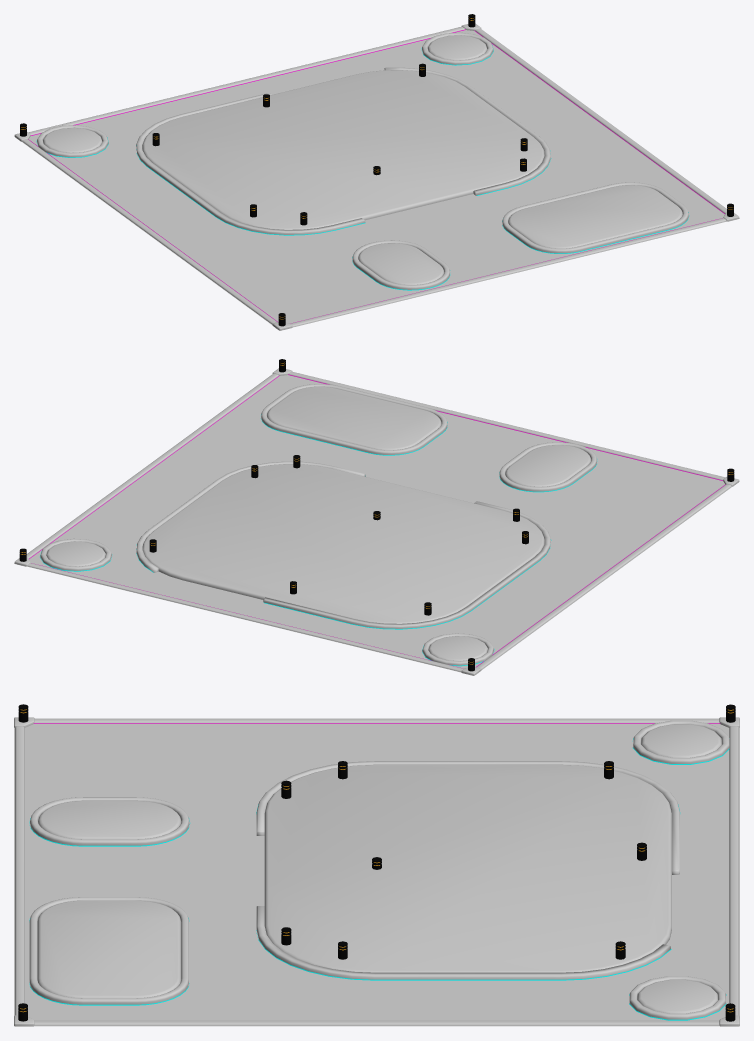
Rendered from building_floor.gltf.
3 renders of one model, top to bottom at view 1: azimuth 30°, elevation 25°; view 2: azimuth 150°, elevation 25°; view 3: azimuth 270°, elevation 25°, orthographic. The views are drawn at different scales.
Parts seen in each view (by area): view 1: Grass_3D, concrete_floor, concrete_floor.005, Grass_3D_borders, concrete_floor_borders, concrete_floor.006, Grass_3D.003; view 2: Grass_3D, concrete_floor, concrete_floor.005, Grass_3D_borders, concrete_floor_borders, concrete_floor.006, Grass_3D.003; view 3: Grass_3D, concrete_floor, concrete_floor.005, Grass_3D_borders, concrete_floor_borders, Grass_3D.003, concrete_floor_borders.001, Plane.011, concrete_floor.006.
Part boxes in pixels (<box>): Grass_3D: <box>43,35,682,284</box>; concrete_floor: <box>14,30,739,330</box>; concrete_floor.005: <box>22,26,726,327</box>; Grass_3D_borders: <box>37,32,688,289</box>; concrete_floor_borders: <box>136,67,550,234</box>; concrete_floor.006: <box>28,29,724,323</box>; Grass_3D.003: <box>36,45,689,290</box>; Grass_3D: <box>46,386,591,661</box>; concrete_floor: <box>14,375,739,672</box>; concrete_floor.005: <box>26,371,731,672</box>; Grass_3D_borders: <box>40,384,596,665</box>; concrete_floor_borders: <box>136,461,550,628</box>; concrete_floor.006: <box>29,374,725,668</box>; Grass_3D.003: <box>40,414,597,666</box>; Grass_3D: <box>37,724,721,1013</box>; concrete_floor: <box>14,724,739,1026</box>; concrete_floor.005: <box>15,718,738,1025</box>; Grass_3D_borders: <box>29,720,729,1019</box>; concrete_floor_borders: <box>256,761,679,979</box>; Grass_3D.003: <box>29,738,729,1020</box>; concrete_floor_borders.001: <box>256,804,680,980</box>; Plane.011: <box>14,717,739,1026</box>; concrete_floor.006: <box>33,723,720,723</box>.
Size of what is drawn, in the model's own units: 32 by 0.9901 by 32.
